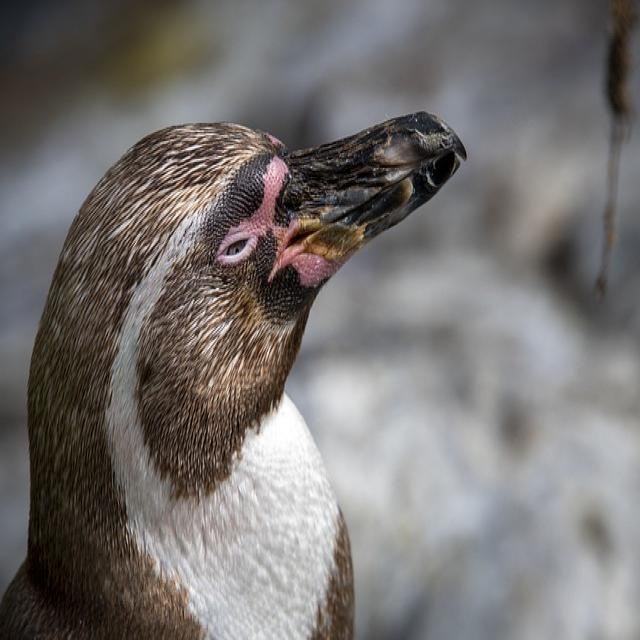Carnivorous: (0, 111, 467, 640)
